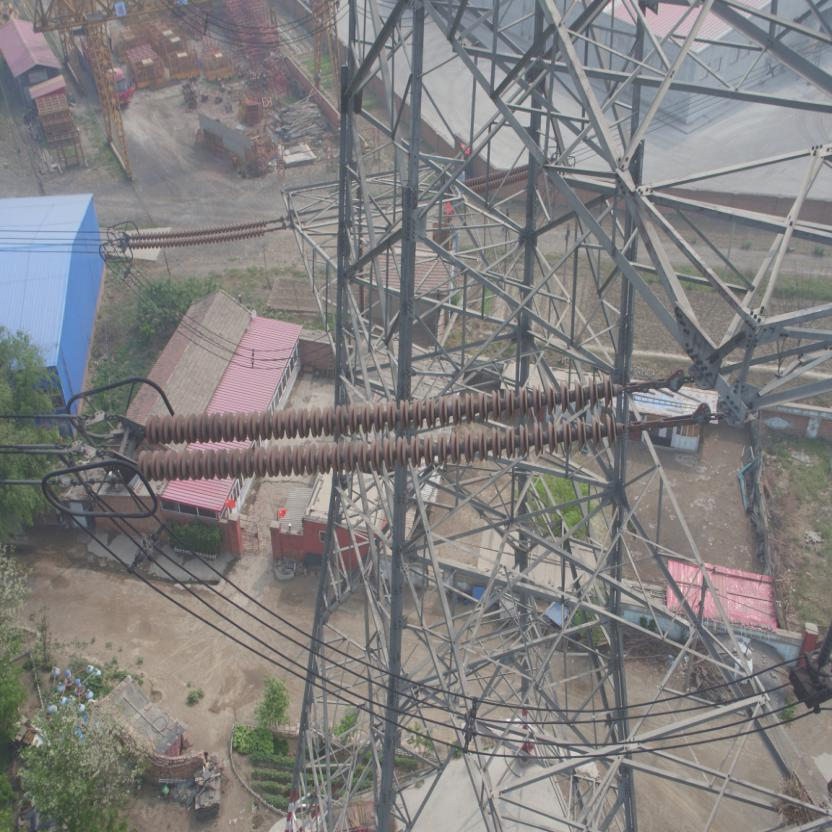insulator: (128, 371, 649, 481), (126, 214, 275, 252)
